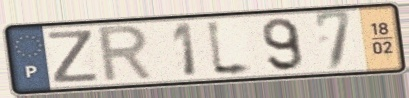1: (170, 20, 198, 80)
7: (312, 8, 354, 75)
9: (259, 16, 306, 72)
L: (203, 16, 258, 80)
R: (96, 22, 157, 86)
Z: (45, 28, 101, 86)
